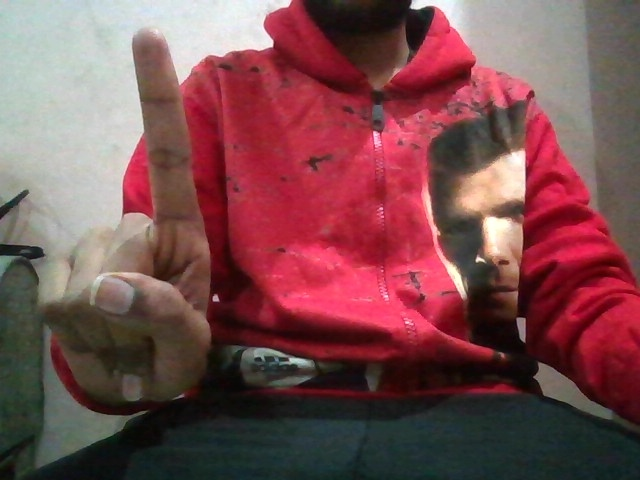D: (29, 17, 244, 418)
